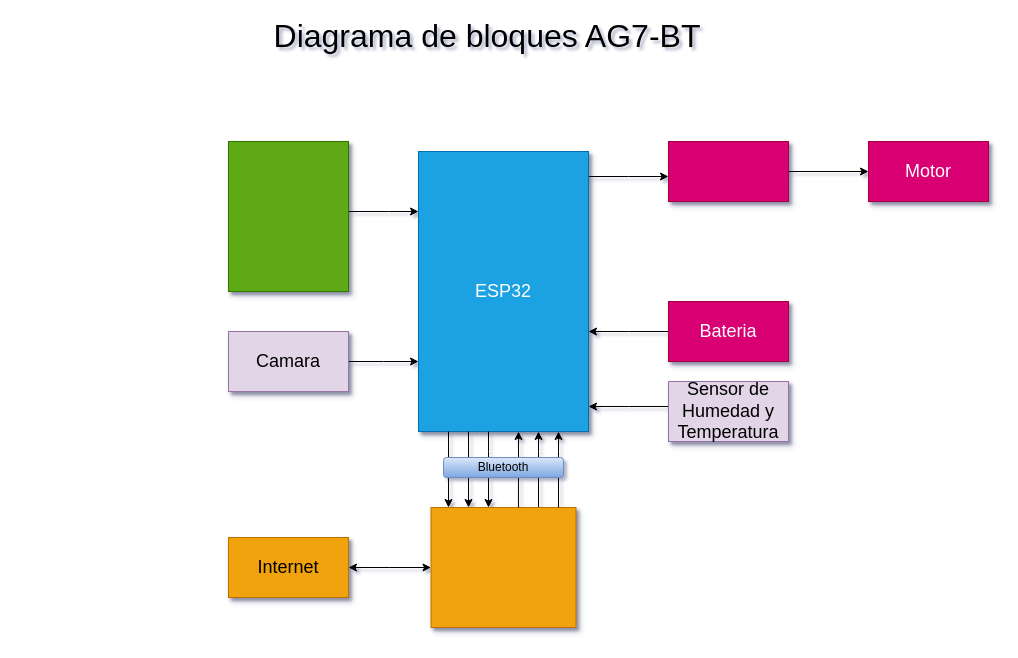
The diagram is 1018 pixels wide and 658 high, and some of its shapes have lost their labels. Here are the shapes that lost their labels. From the top down, the centre of each, then its label:
At [729,172]: "Driver".
At [289,217]: "Sensor de deteccion de obstaculos".
At [504,568]: "Android app".
